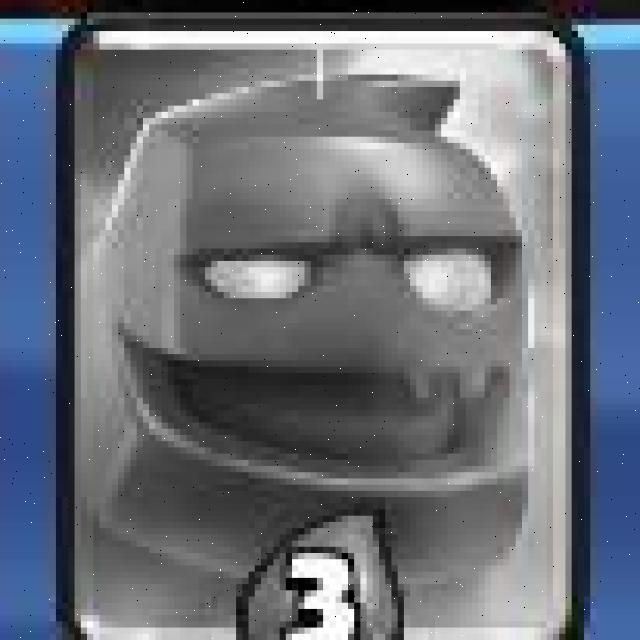Elixir_Golem: (56, 16, 588, 635)
